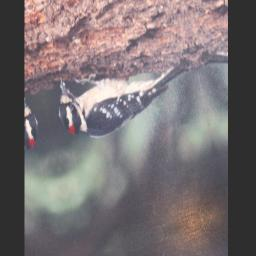Woodpecker: (49, 38, 198, 153)
